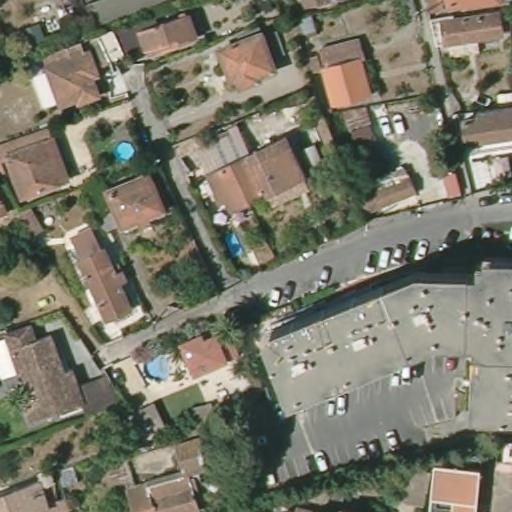pool: (140, 348, 174, 382), (217, 225, 245, 260), (110, 139, 137, 161)
